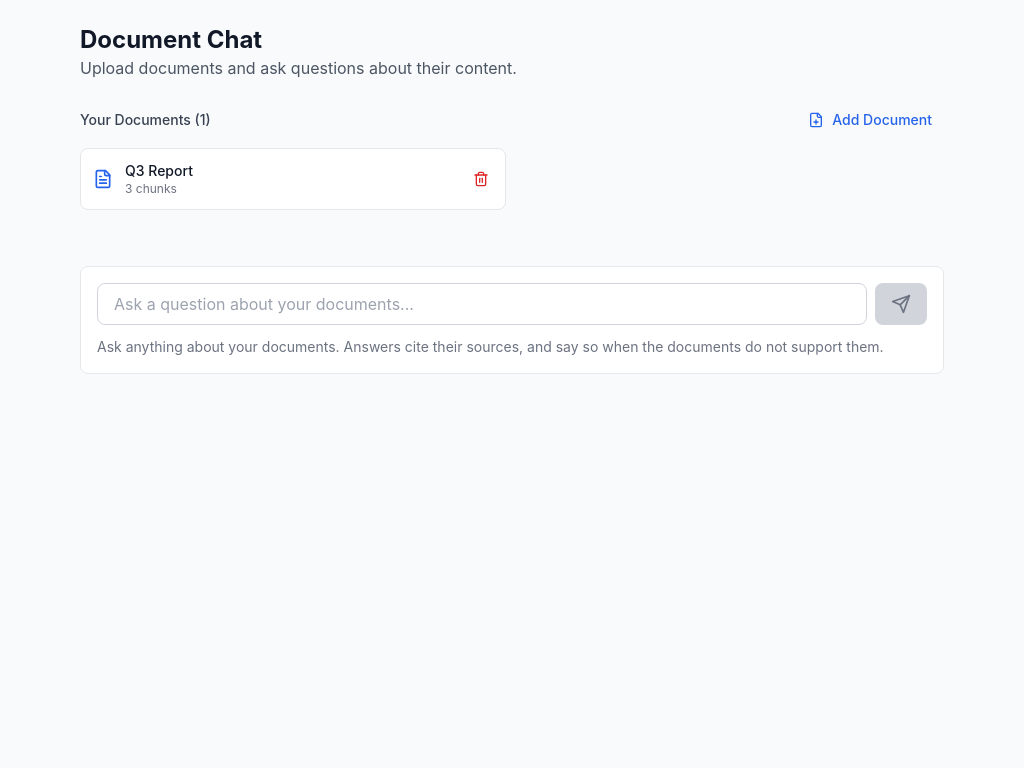
Test case: ChatPage: asking a question › shows a failure with a Try again that asks the same question
In the field named "Your question": coordinates (482, 304) [97,283,867,325], type "How did revenue change?"
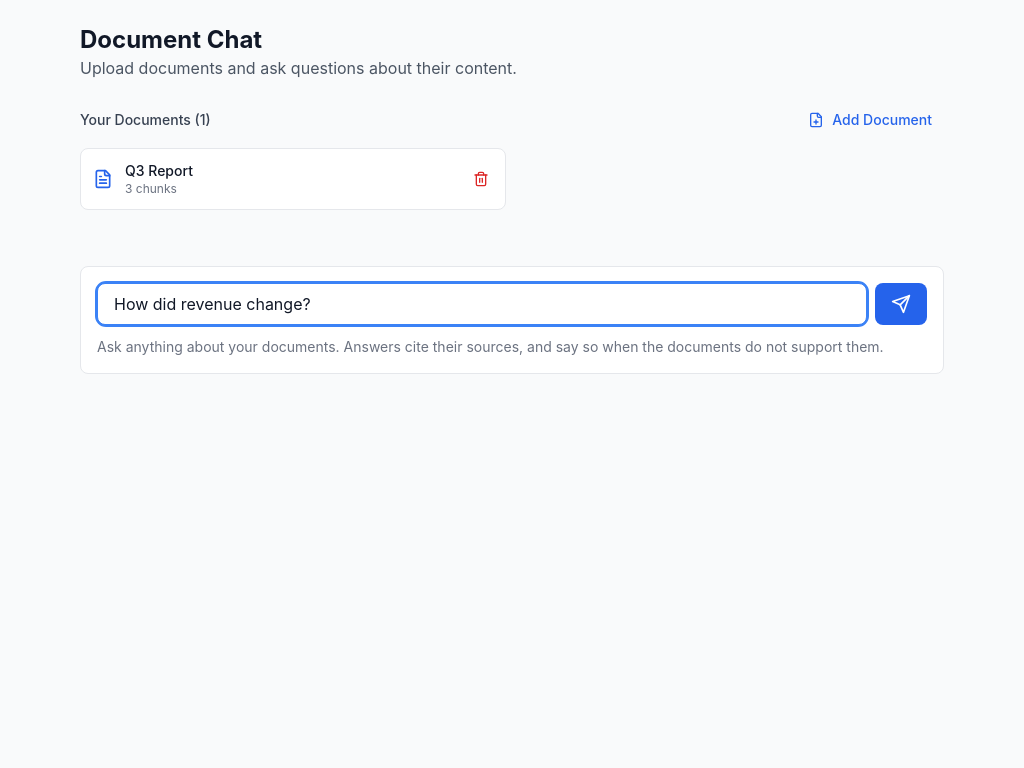
Click the button named "send question": coordinates (901, 304) [875,283,927,325]
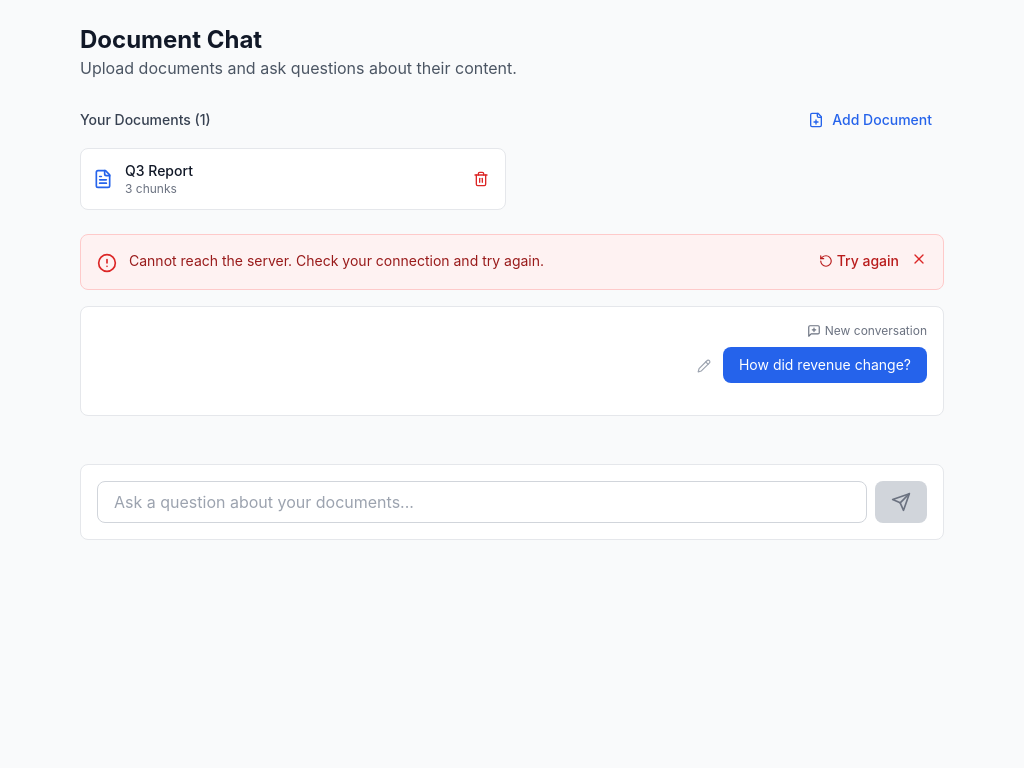
expect the message "Cannot reach the server. Check your connection and try again. Try again" is shown: met, box [80,234,944,290]
Click the button "Try again": coordinates (859, 261) [819,251,899,271]
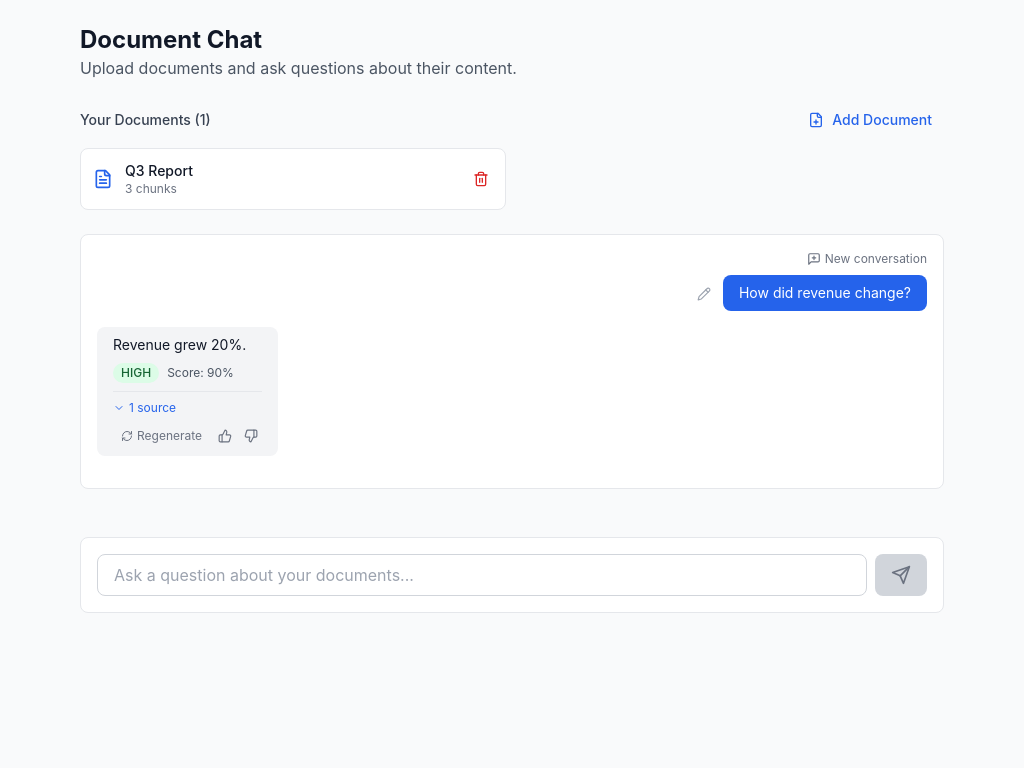
expect the text "How did revenue change?" is shown: met, box [739,283,911,303]
expect the text "Revenue grew 20%." is shown: met, box [113,335,262,355]
